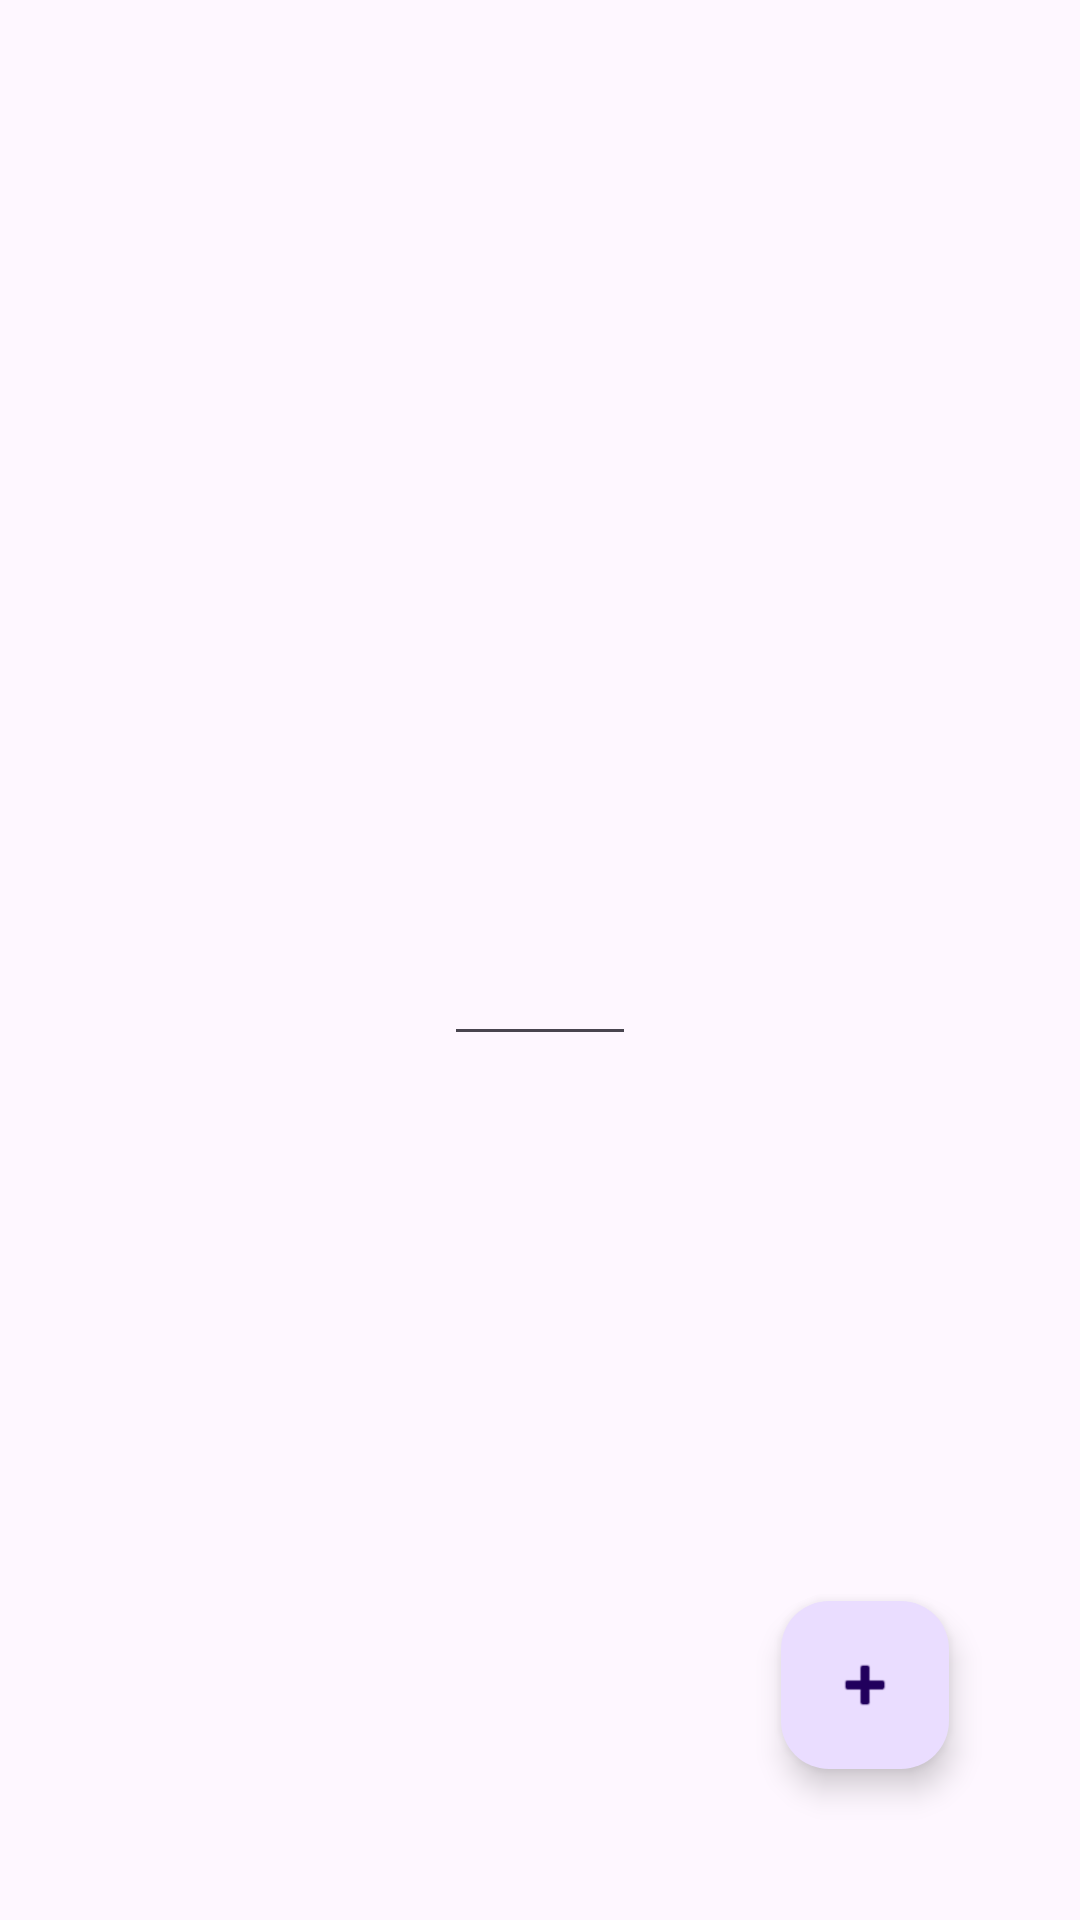

Named icons in this screenshot (1080x1920) and their centers, [x,y]:
add: [865,1685]
